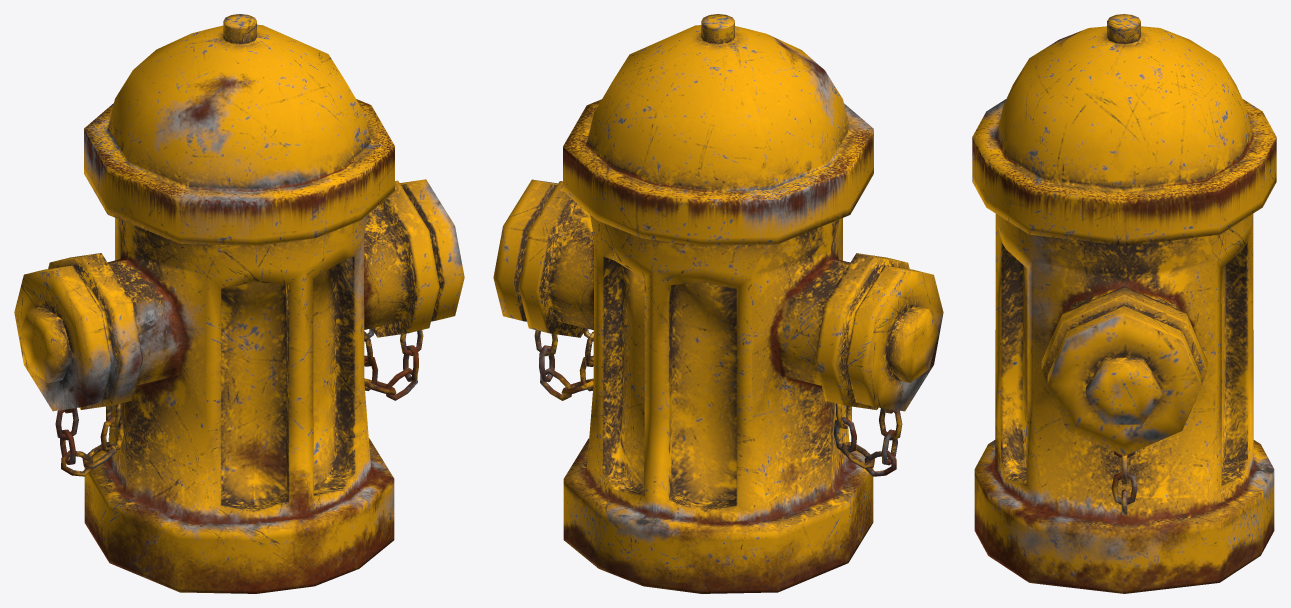
Rendered from src.glb.
3 renders of one model, left to right at view 1: azimuth 30°, elevation 25°; view 2: azimuth 150°, elevation 25°; view 3: azimuth 270°, elevation 25°, orthographic.
Parts seen in each view (by area): view 1: Hydrant_low_0; view 2: Hydrant_low_0; view 3: Hydrant_low_0.
Part boxes in pixels (<box>): Hydrant_low_0: <box>14,14,464,593</box>; Hydrant_low_0: <box>493,14,943,593</box>; Hydrant_low_0: <box>972,14,1276,593</box>.
Bounding box in the file's own units: 3.09 × 3.75 × 2.03.
1 material, 1 textured.
